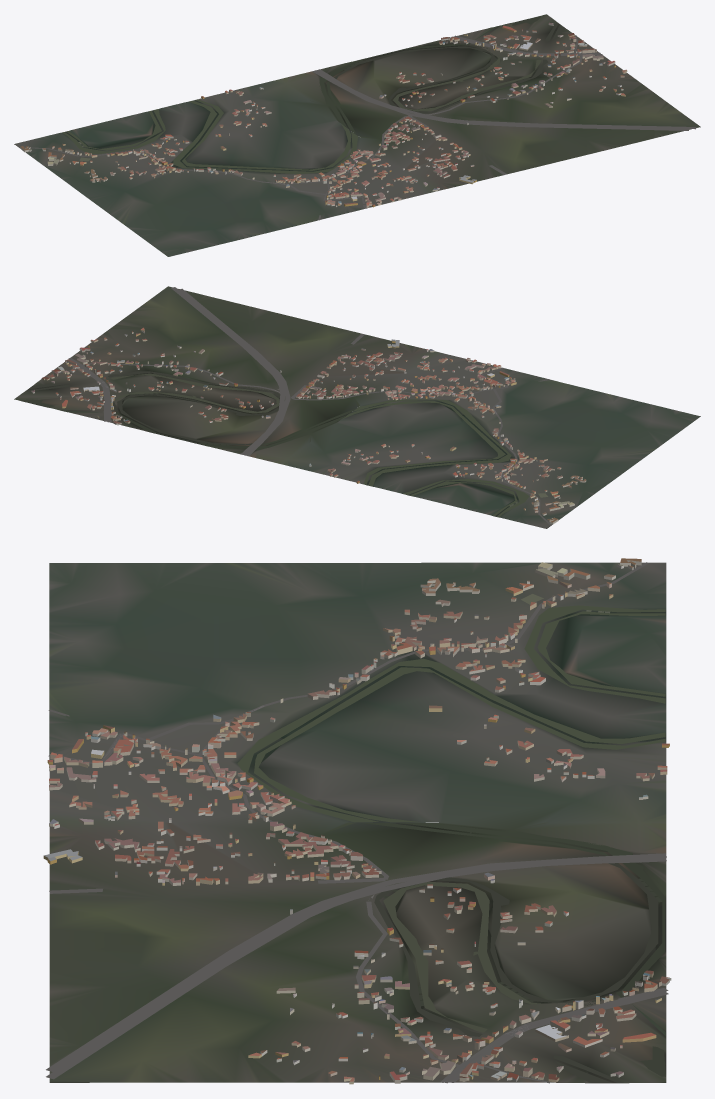
The picture shows the model from 3 angles, top to bottom: view 1: azimuth 30°, elevation 25°; view 2: azimuth 150°, elevation 25°; view 3: azimuth 270°, elevation 25°; orthographic projection. The views are drawn at different scales.
Parts seen in each view (by area): view 1: ground, buildings, water, roads; view 2: ground, buildings, water, roads; view 3: ground, buildings, water, roads.
Part boxes in pixels (box(x1,y1,x2,y2)): ground: box(14, 14, 700, 256); buildings: box(20, 22, 627, 207); water: box(62, 16, 565, 174); roads: box(18, 35, 696, 220); ground: box(14, 286, 700, 528); buildings: box(31, 327, 586, 524); water: box(21, 371, 547, 517); roads: box(45, 287, 551, 525); ground: box(49, 562, 666, 1083); buildings: box(43, 558, 671, 1084); water: box(237, 594, 665, 1082); roads: box(46, 562, 668, 1083).
Size of the model in its own units: 2807 by 25.87 by 1426.
